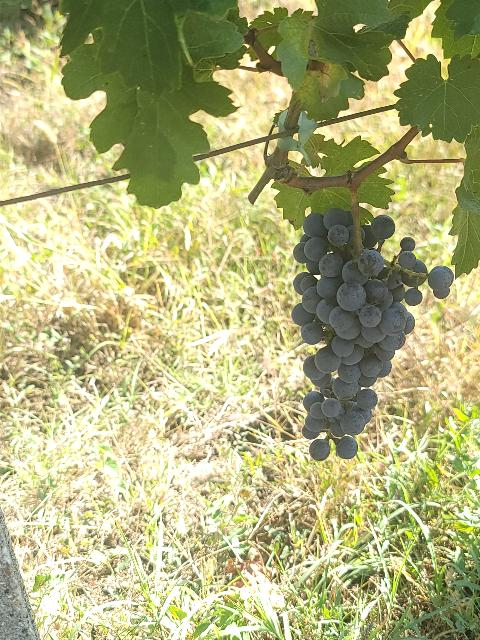grapes: (291, 208, 454, 460)
